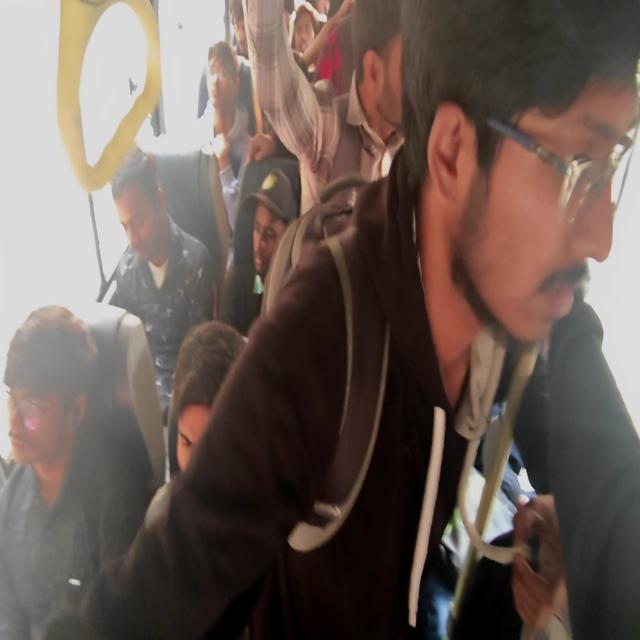person: (40, 0, 638, 638), (0, 304, 154, 638), (509, 284, 639, 638), (241, 0, 404, 214), (98, 145, 215, 426), (220, 166, 298, 335), (166, 319, 248, 478), (199, 40, 253, 181)
